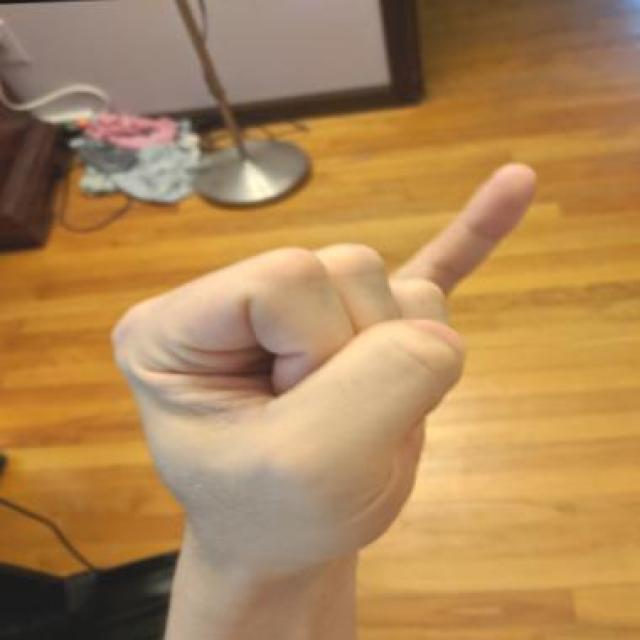I: (105, 157, 541, 590)
